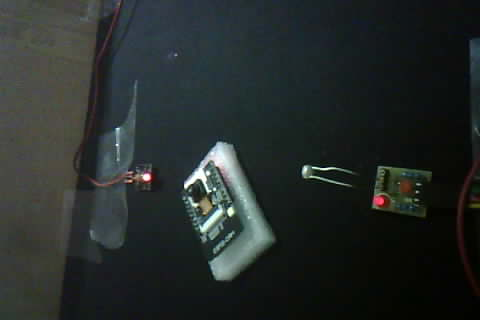esp32: (181, 141, 276, 281)
